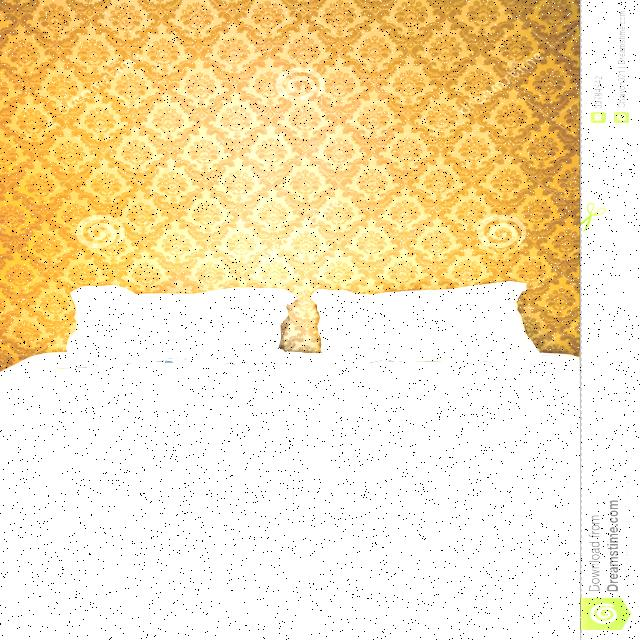bed: (0, 258, 579, 640)
